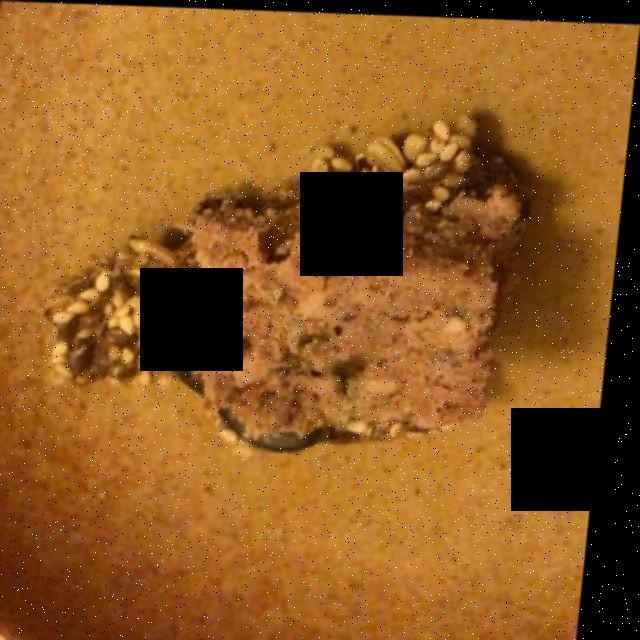meat-terrine-pate: (203, 194, 505, 443)
mixed-seeds: (50, 240, 201, 380)
